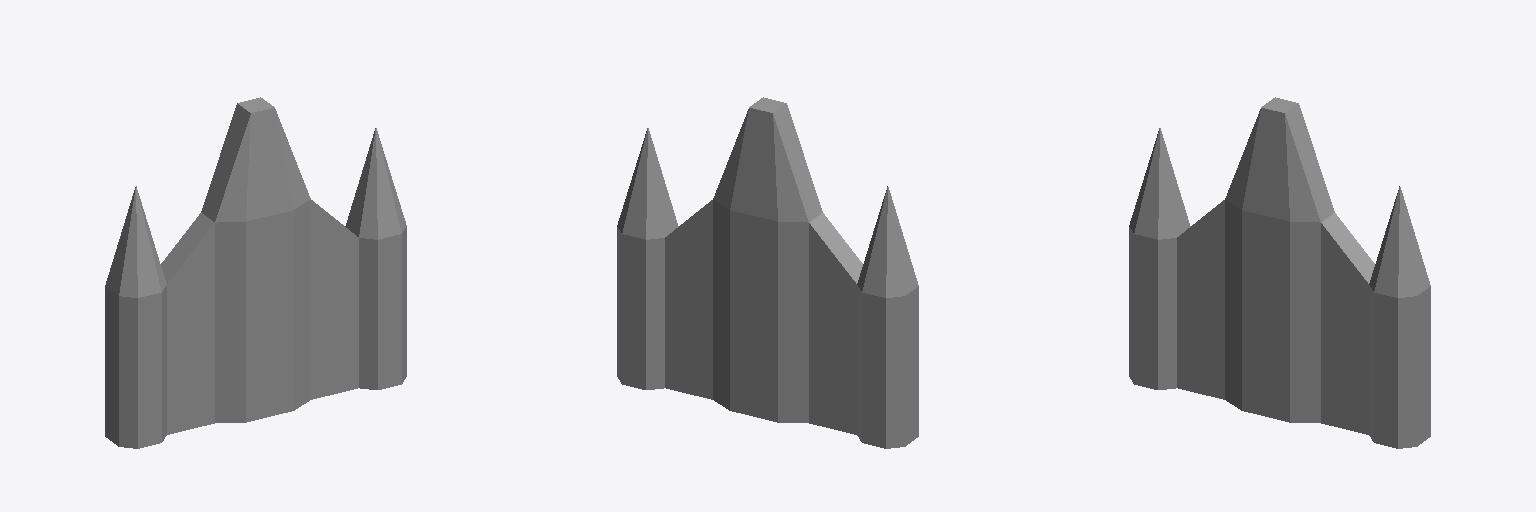
Rendered from ship.obj.
3 views of the same model, side by side, from view 1: azimuth 30°, elevation 25°; view 2: azimuth 150°, elevation 25°; view 3: azimuth 330°, elevation 25° (orthographic).
Visible parts, largest first — view 1: mothership_mothership_2; view 2: mothership_mothership_2; view 3: mothership_mothership_2.
Part boxes in pixels (x1,y1,x2,y2): mothership_mothership_2: (105, 97, 406, 448); mothership_mothership_2: (617, 97, 918, 448); mothership_mothership_2: (1129, 97, 1430, 448).
Bounding box in the file's own units: 384 × 384 × 64.